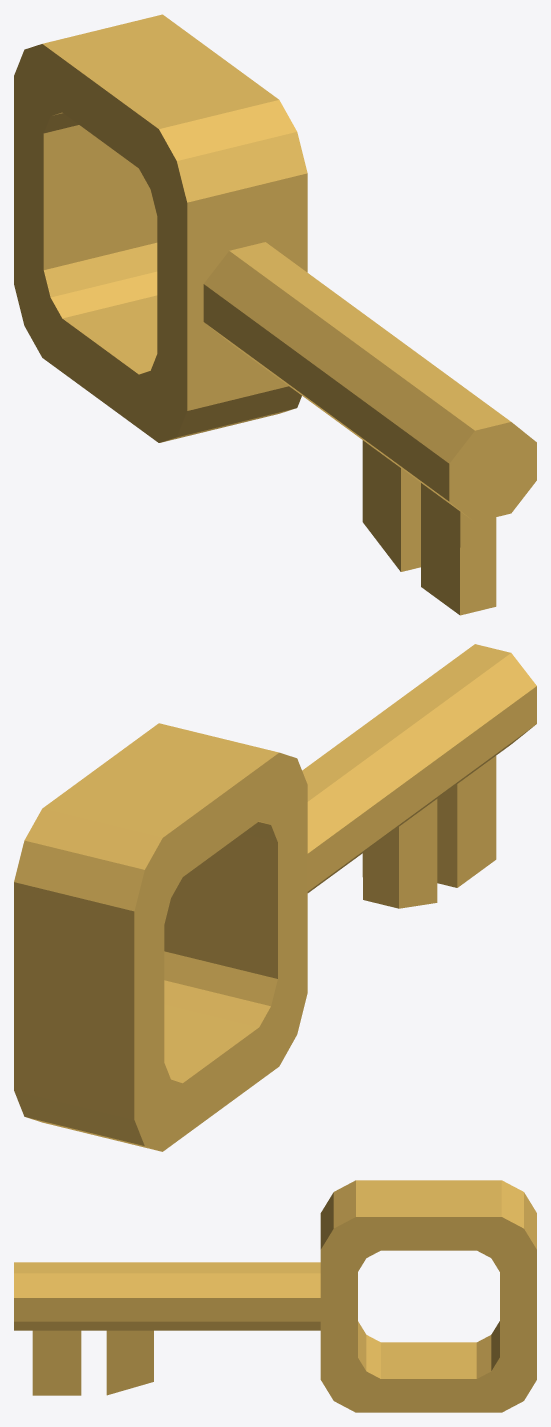
Rendered from key.glb.
3 renders of one model, top to bottom at view 1: azimuth 30°, elevation 25°; view 2: azimuth 150°, elevation 25°; view 3: azimuth 270°, elevation 25°, orthographic. The views are drawn at different scales.
Parts seen in each view (by area): view 1: Cube.001, Cube; view 2: Cube.001, Cube; view 3: Cube.001, Cube.
Boxes of the visible parts, x1,y1,x2,y2 form: Cube.001: (14, 14, 307, 442); Cube: (203, 242, 536, 615); Cube.001: (14, 723, 307, 1151); Cube: (302, 644, 536, 908); Cube.001: (320, 1180, 536, 1412); Cube: (14, 1262, 320, 1395).
Size of the model in its own units: 0.0475 by 0.1183 by 0.2861.
